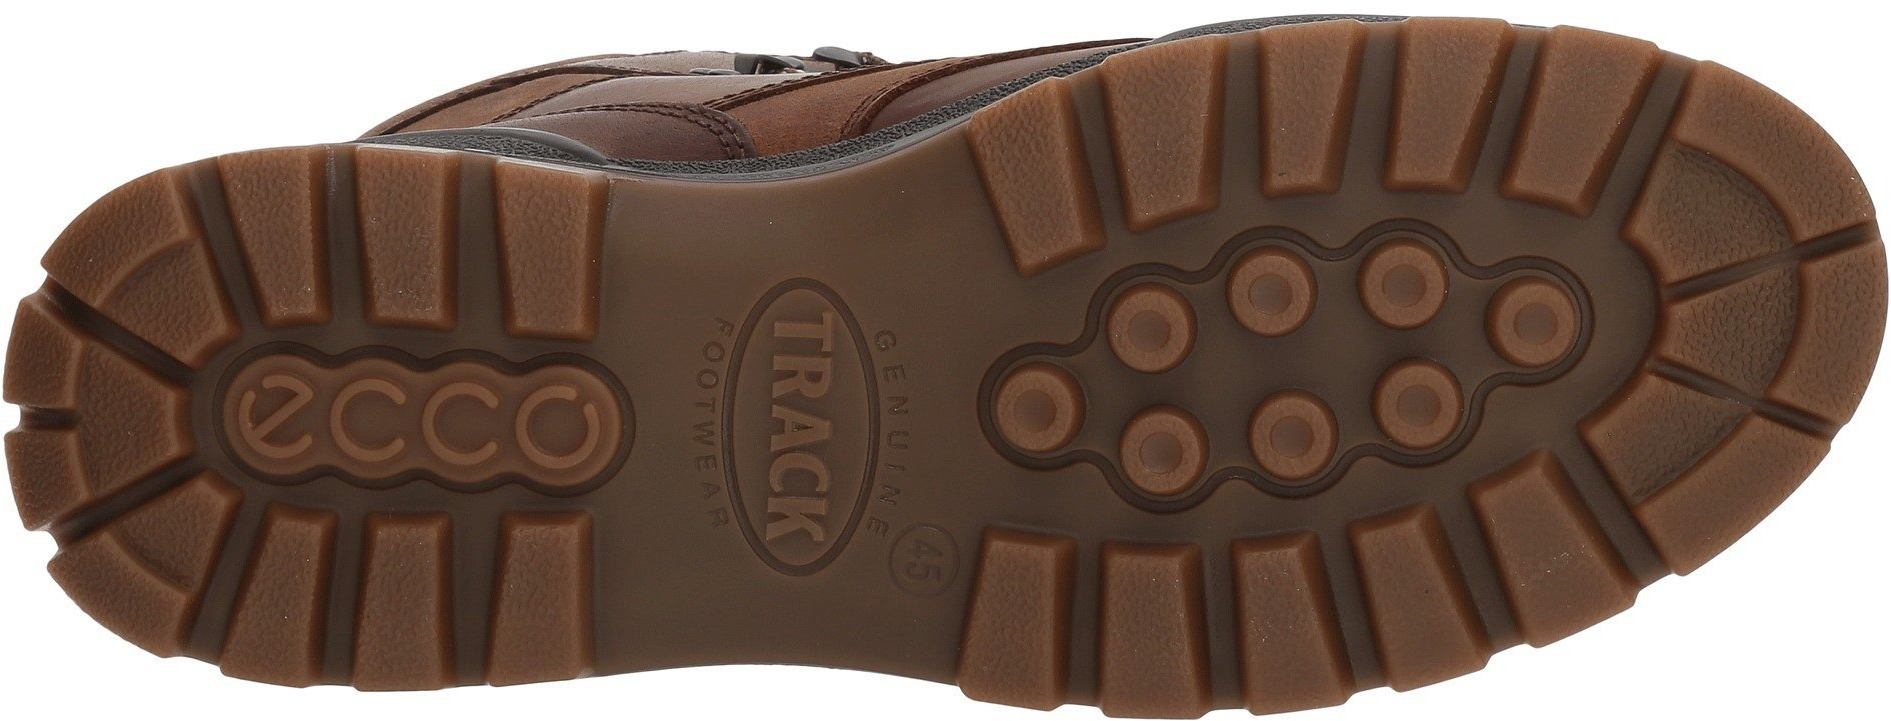circle: (677, 270, 917, 584), (1062, 272, 1330, 527), (1315, 231, 1470, 452), (1116, 283, 1299, 469), (425, 351, 605, 506), (1479, 256, 1599, 381), (886, 516, 955, 603)
quad: (1351, 422, 1637, 713), (1094, 2, 1368, 242), (1372, 11, 1681, 213), (950, 493, 1224, 715), (334, 509, 620, 707), (1014, 490, 1259, 713), (1398, 18, 1626, 238), (206, 137, 462, 332), (252, 153, 456, 341), (1128, 47, 1336, 229), (1360, 456, 1571, 635), (268, 512, 458, 687), (4, 279, 110, 555), (463, 514, 636, 678)
text: (677, 270, 917, 584), (217, 338, 414, 509), (425, 351, 605, 506), (740, 420, 857, 543), (755, 305, 841, 416), (873, 317, 953, 409), (886, 516, 955, 603), (663, 368, 728, 449), (897, 535, 949, 596), (684, 313, 740, 368), (882, 456, 936, 508), (677, 456, 731, 503)
